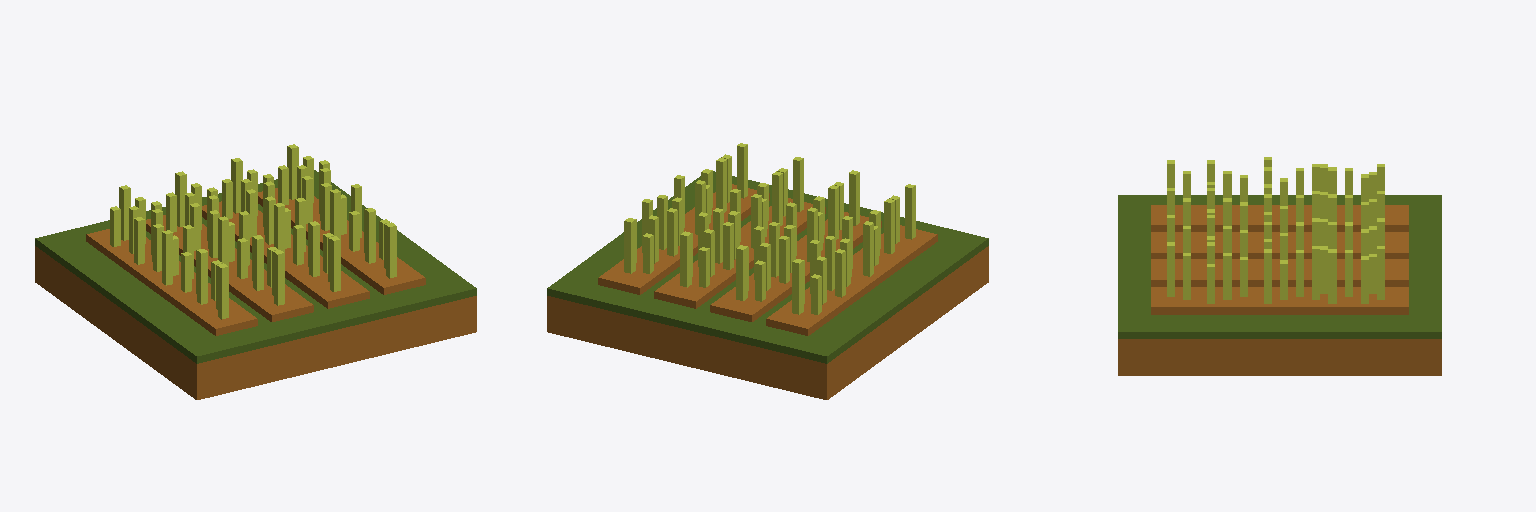
3 renders of one model, left to right at view 1: azimuth 30°, elevation 25°; view 2: azimuth 150°, elevation 25°; view 3: azimuth 270°, elevation 25°, orthographic.
Visible parts, largest first — view 1: object 1; view 2: object 1; view 3: object 1.
Boxes of the visible parts, box(x1,y1,x2,y2) form: object 1: box(35, 144, 476, 399); object 1: box(547, 143, 988, 399); object 1: box(1118, 157, 1441, 375).
Bounding box in the file's own units: 4 × 1.4 × 4.
1 materials, 1 textured.